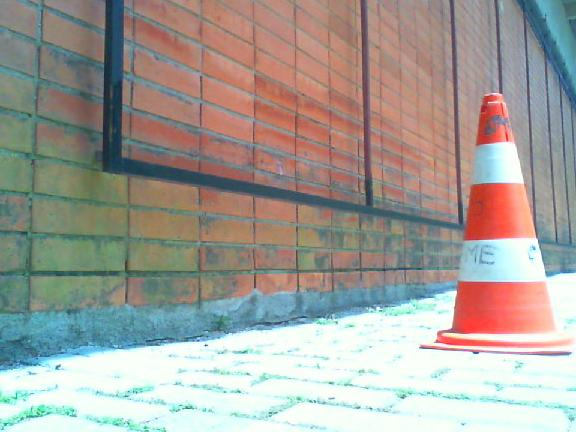0 cone: (419, 93, 575, 355)
